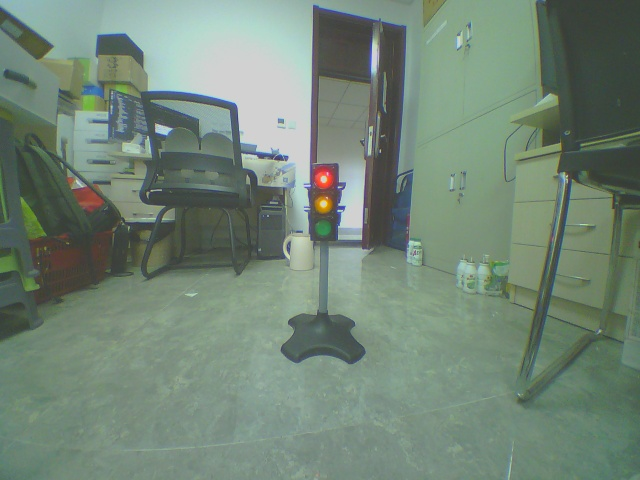Red_Yellow: (301, 159, 357, 246)
